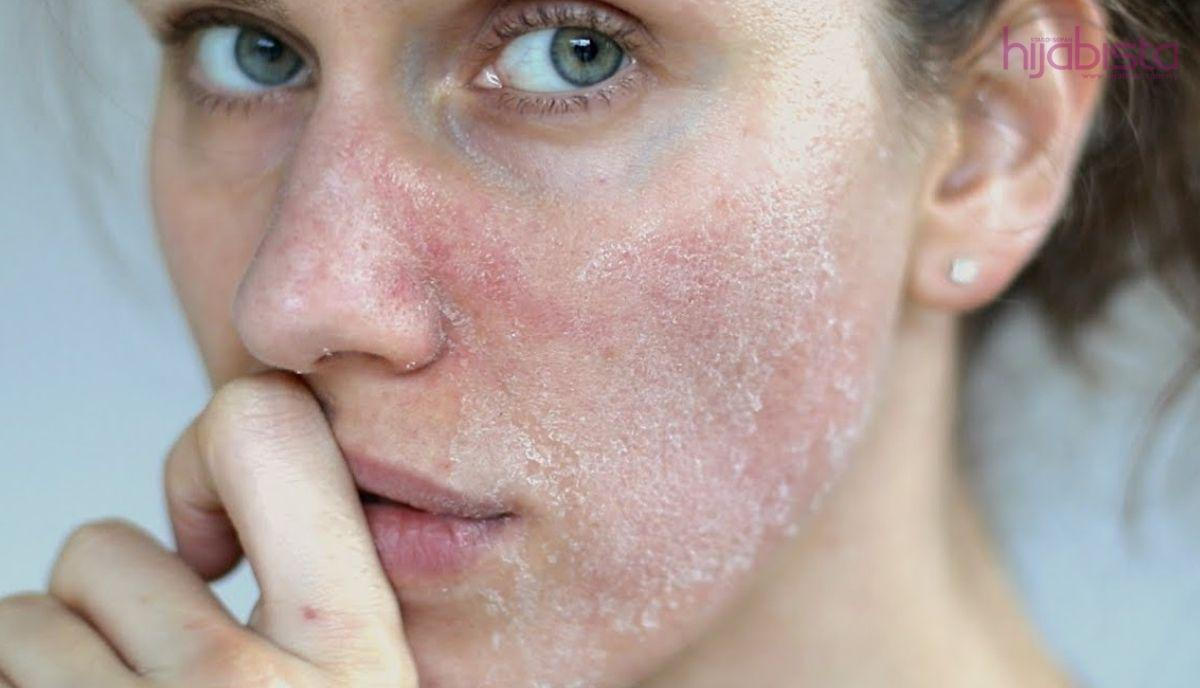Dry-Skin: (671, 161, 890, 528), (447, 547, 714, 660), (447, 353, 627, 490)
